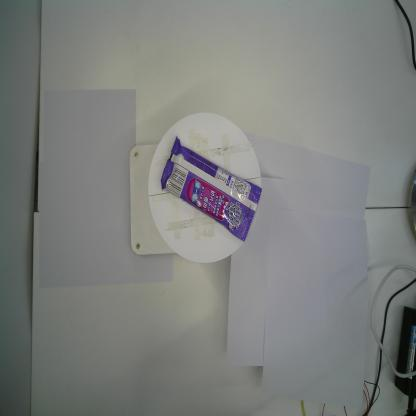Candy: (160, 136, 263, 242)
